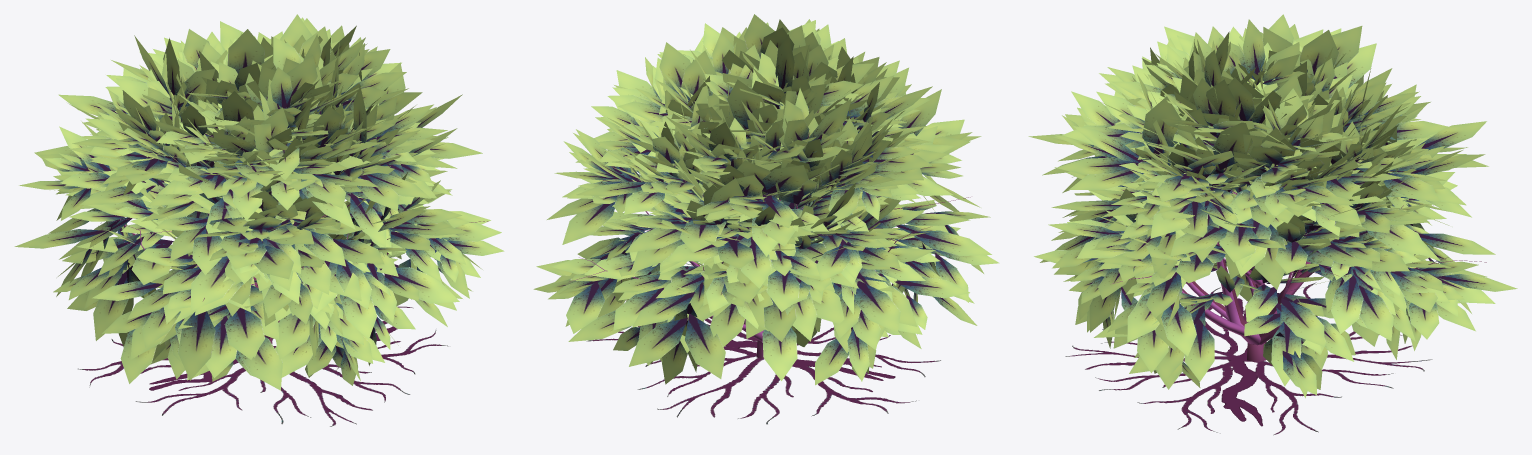
File: GreenBush.fbx
The picture shows the model from 3 angles, left to right: view 1: azimuth 30°, elevation 25°; view 2: azimuth 150°, elevation 25°; view 3: azimuth 270°, elevation 25°; orthographic projection. The views are drawn at different scales.
Visible parts, largest first — view 1: leaves.002, Plane.007; view 2: leaves.002, Plane.007, tree.002; view 3: leaves.002, Plane.007, tree.002.
Part boxes in pixels (x1,y1,x2,y2): leaves.002: (14,14,504,390); Plane.007: (78,306,448,426); leaves.002: (533,14,999,385); Plane.007: (586,318,940,424); tree.002: (569,190,970,359); leaves.002: (1028,14,1517,398); Plane.007: (1065,282,1432,435); tree.002: (1112,190,1486,362).
Size of the model in its own units: 637 by 545 by 713.
